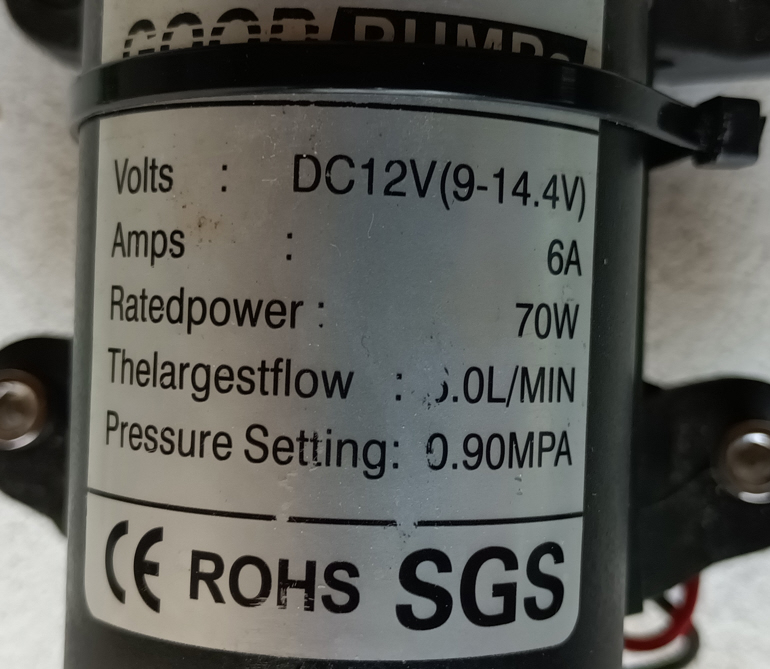p1: (276, 139, 441, 202)
p2: (489, 152, 582, 220)
p3: (537, 228, 588, 284)
p4: (506, 290, 588, 341)
p5: (418, 423, 576, 474)
